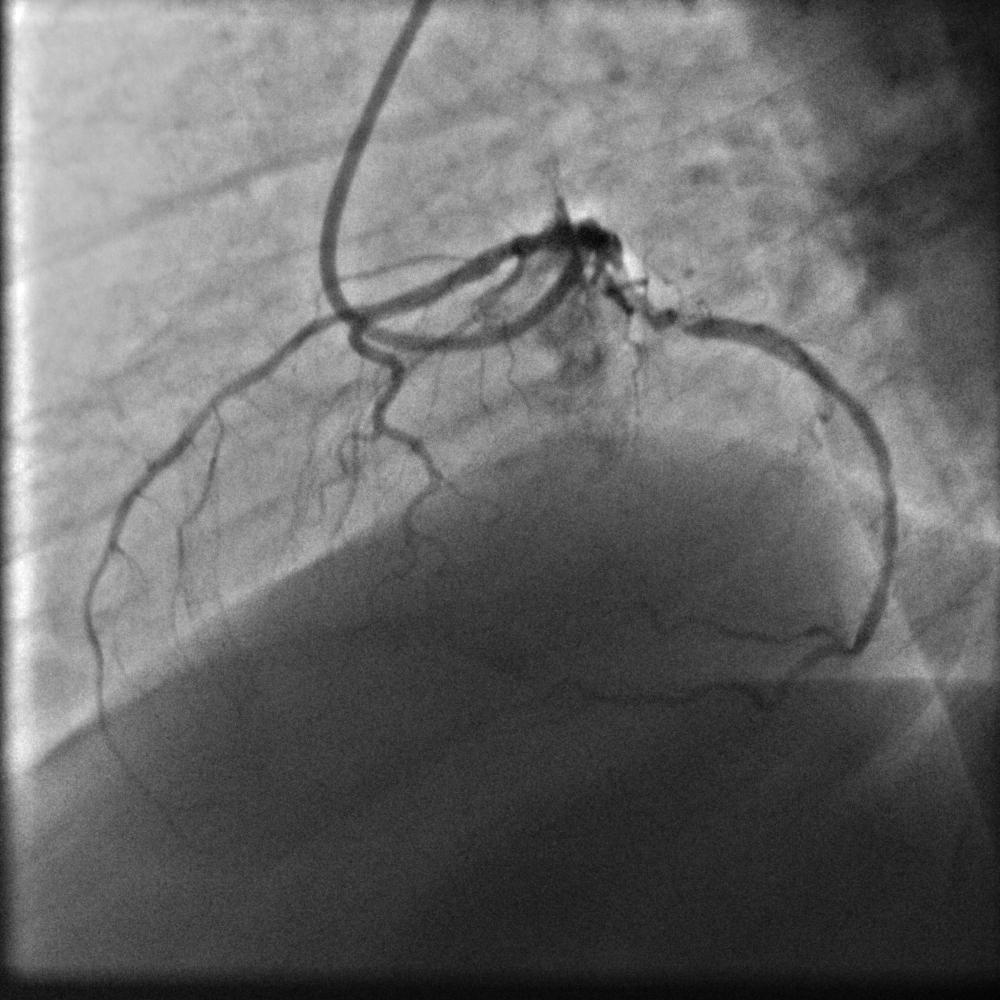Stenosis: (674, 306, 703, 339)
